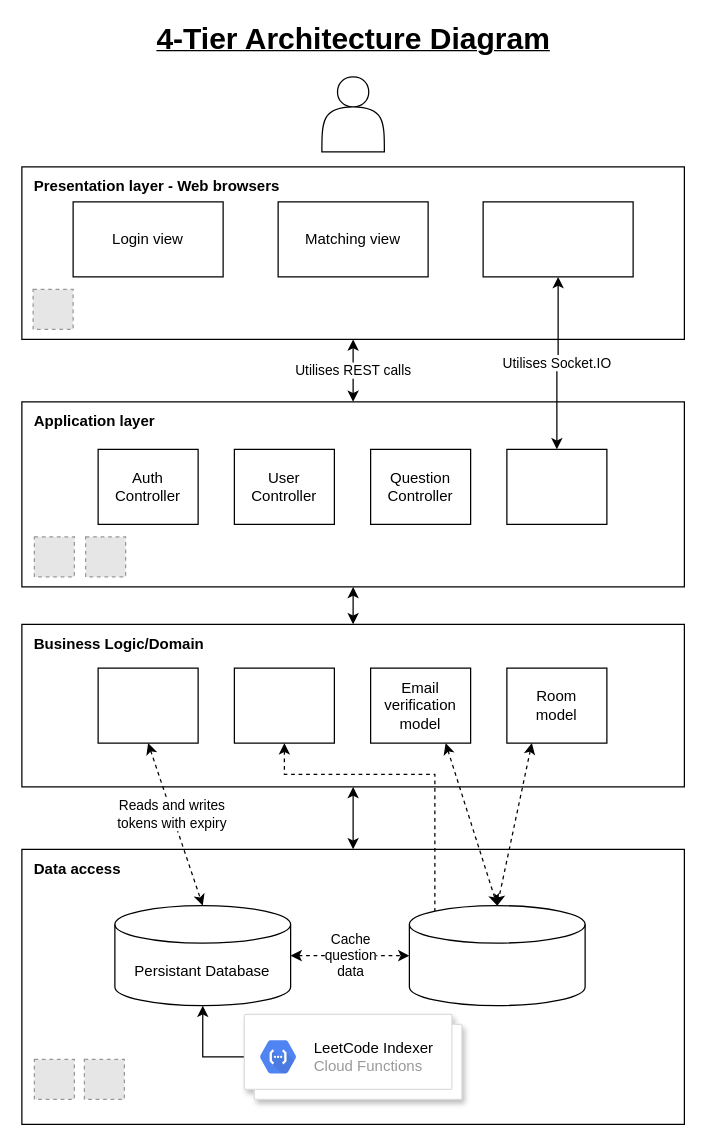
Some shapes in this 706 by 1146 pixel diagram are drawn without their labels. Grey dashed boxes stand in for pictures. The shapes that lost their labels are listed below. From the top down, each one's centre as x and y in pixels, then its label:
pixel 352 114: User
pixel 557 239: Room view
pixel 556 486: Websocket Controller
pixel 147 705: User model
pixel 283 705: Question model
pixel 496 955: Transient Database
